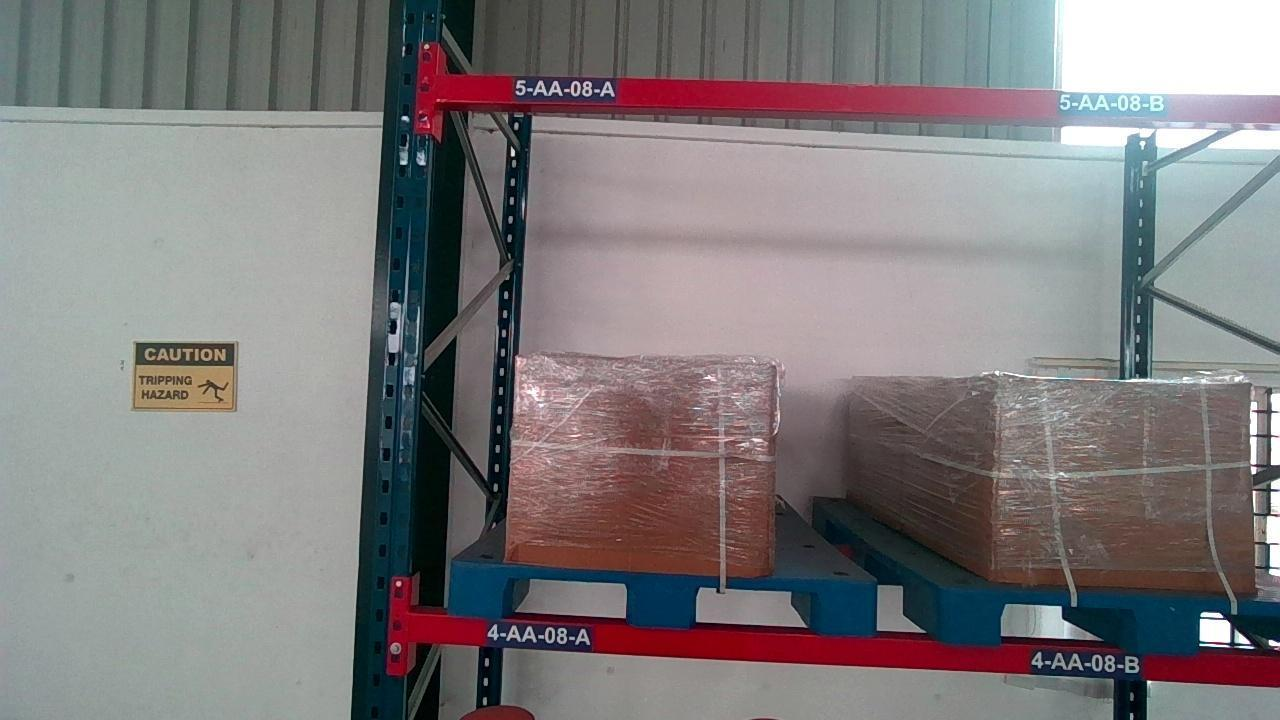h_rack: (415, 611, 1277, 684), (426, 75, 1280, 123)
small_pallet: (448, 565, 883, 631), (950, 591, 1276, 651)
